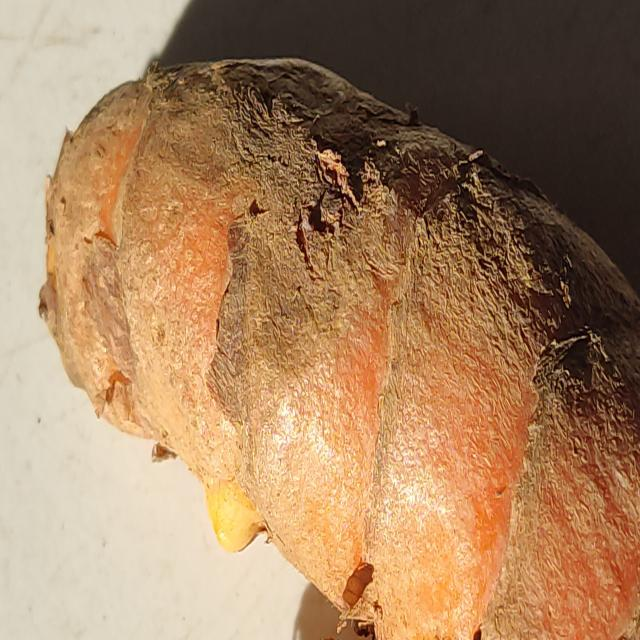ginger: (53, 63, 640, 640)
